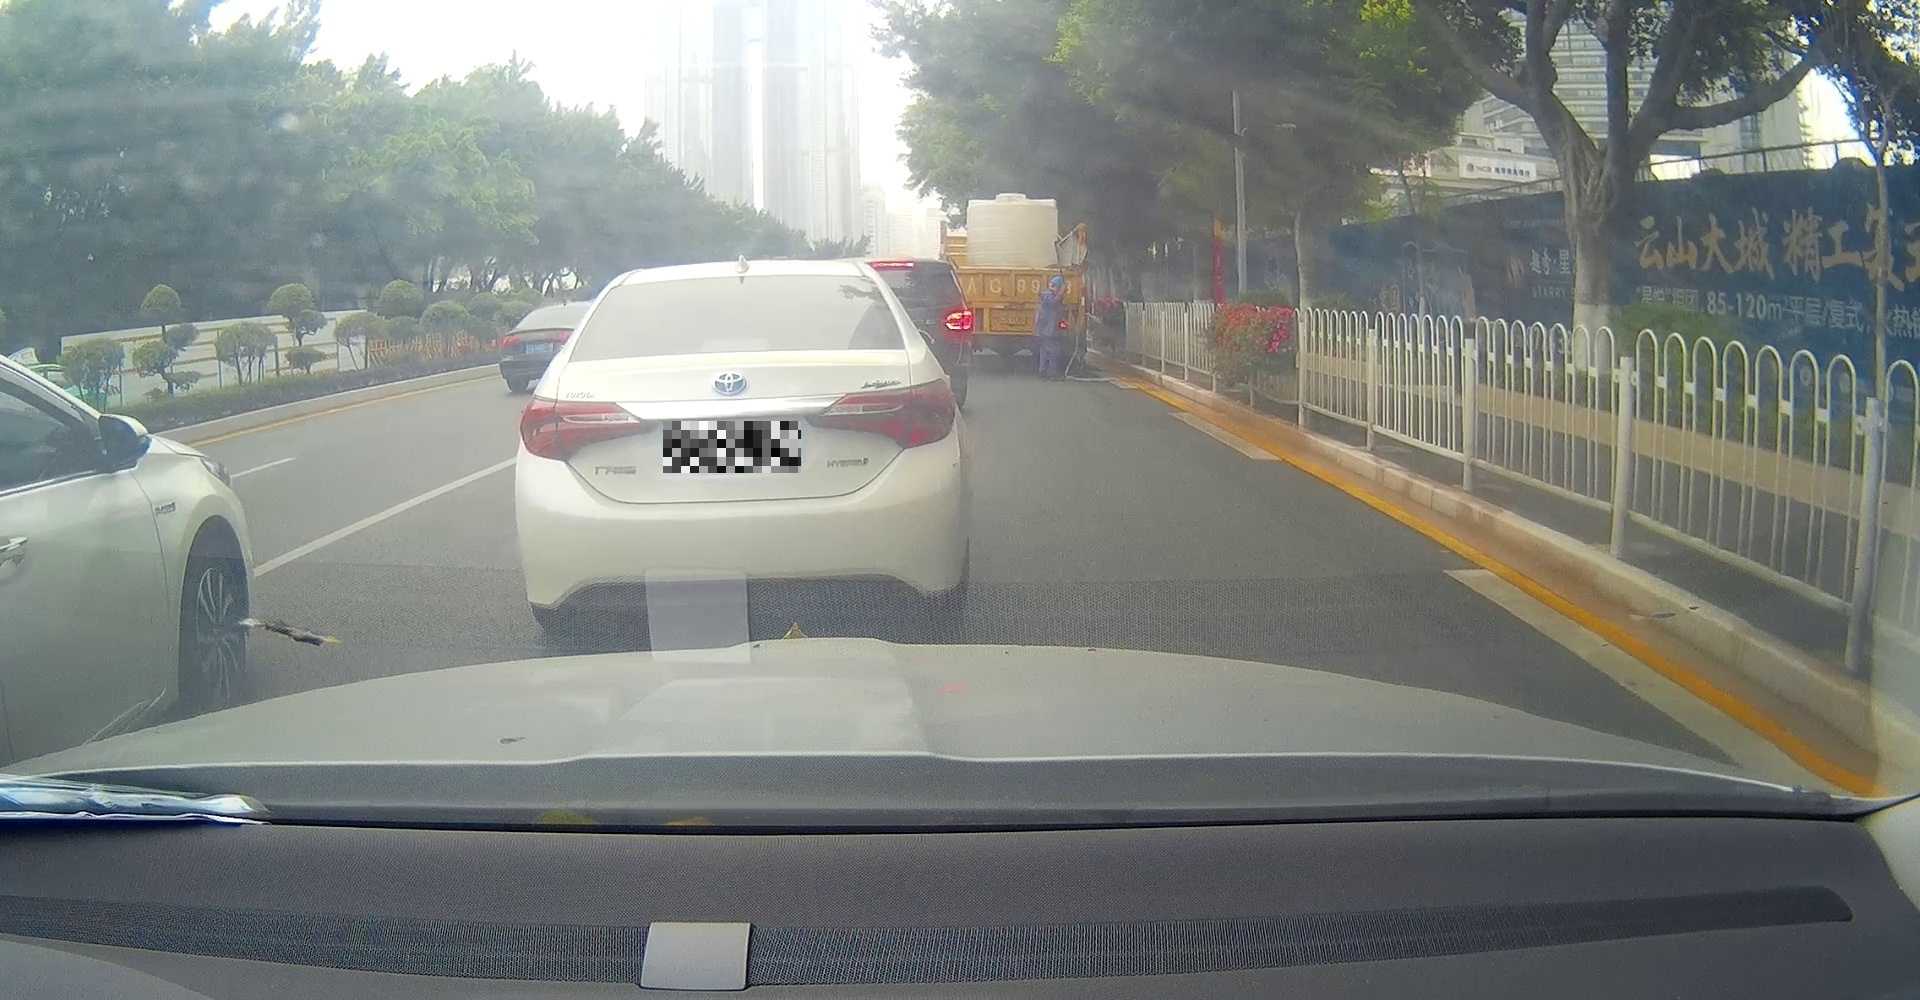L_light: (521, 391, 660, 459)
R_light: (804, 377, 955, 448)
T_light: (703, 340, 764, 352)
day-no: (516, 260, 973, 628)
plate_1: (663, 421, 801, 473)
